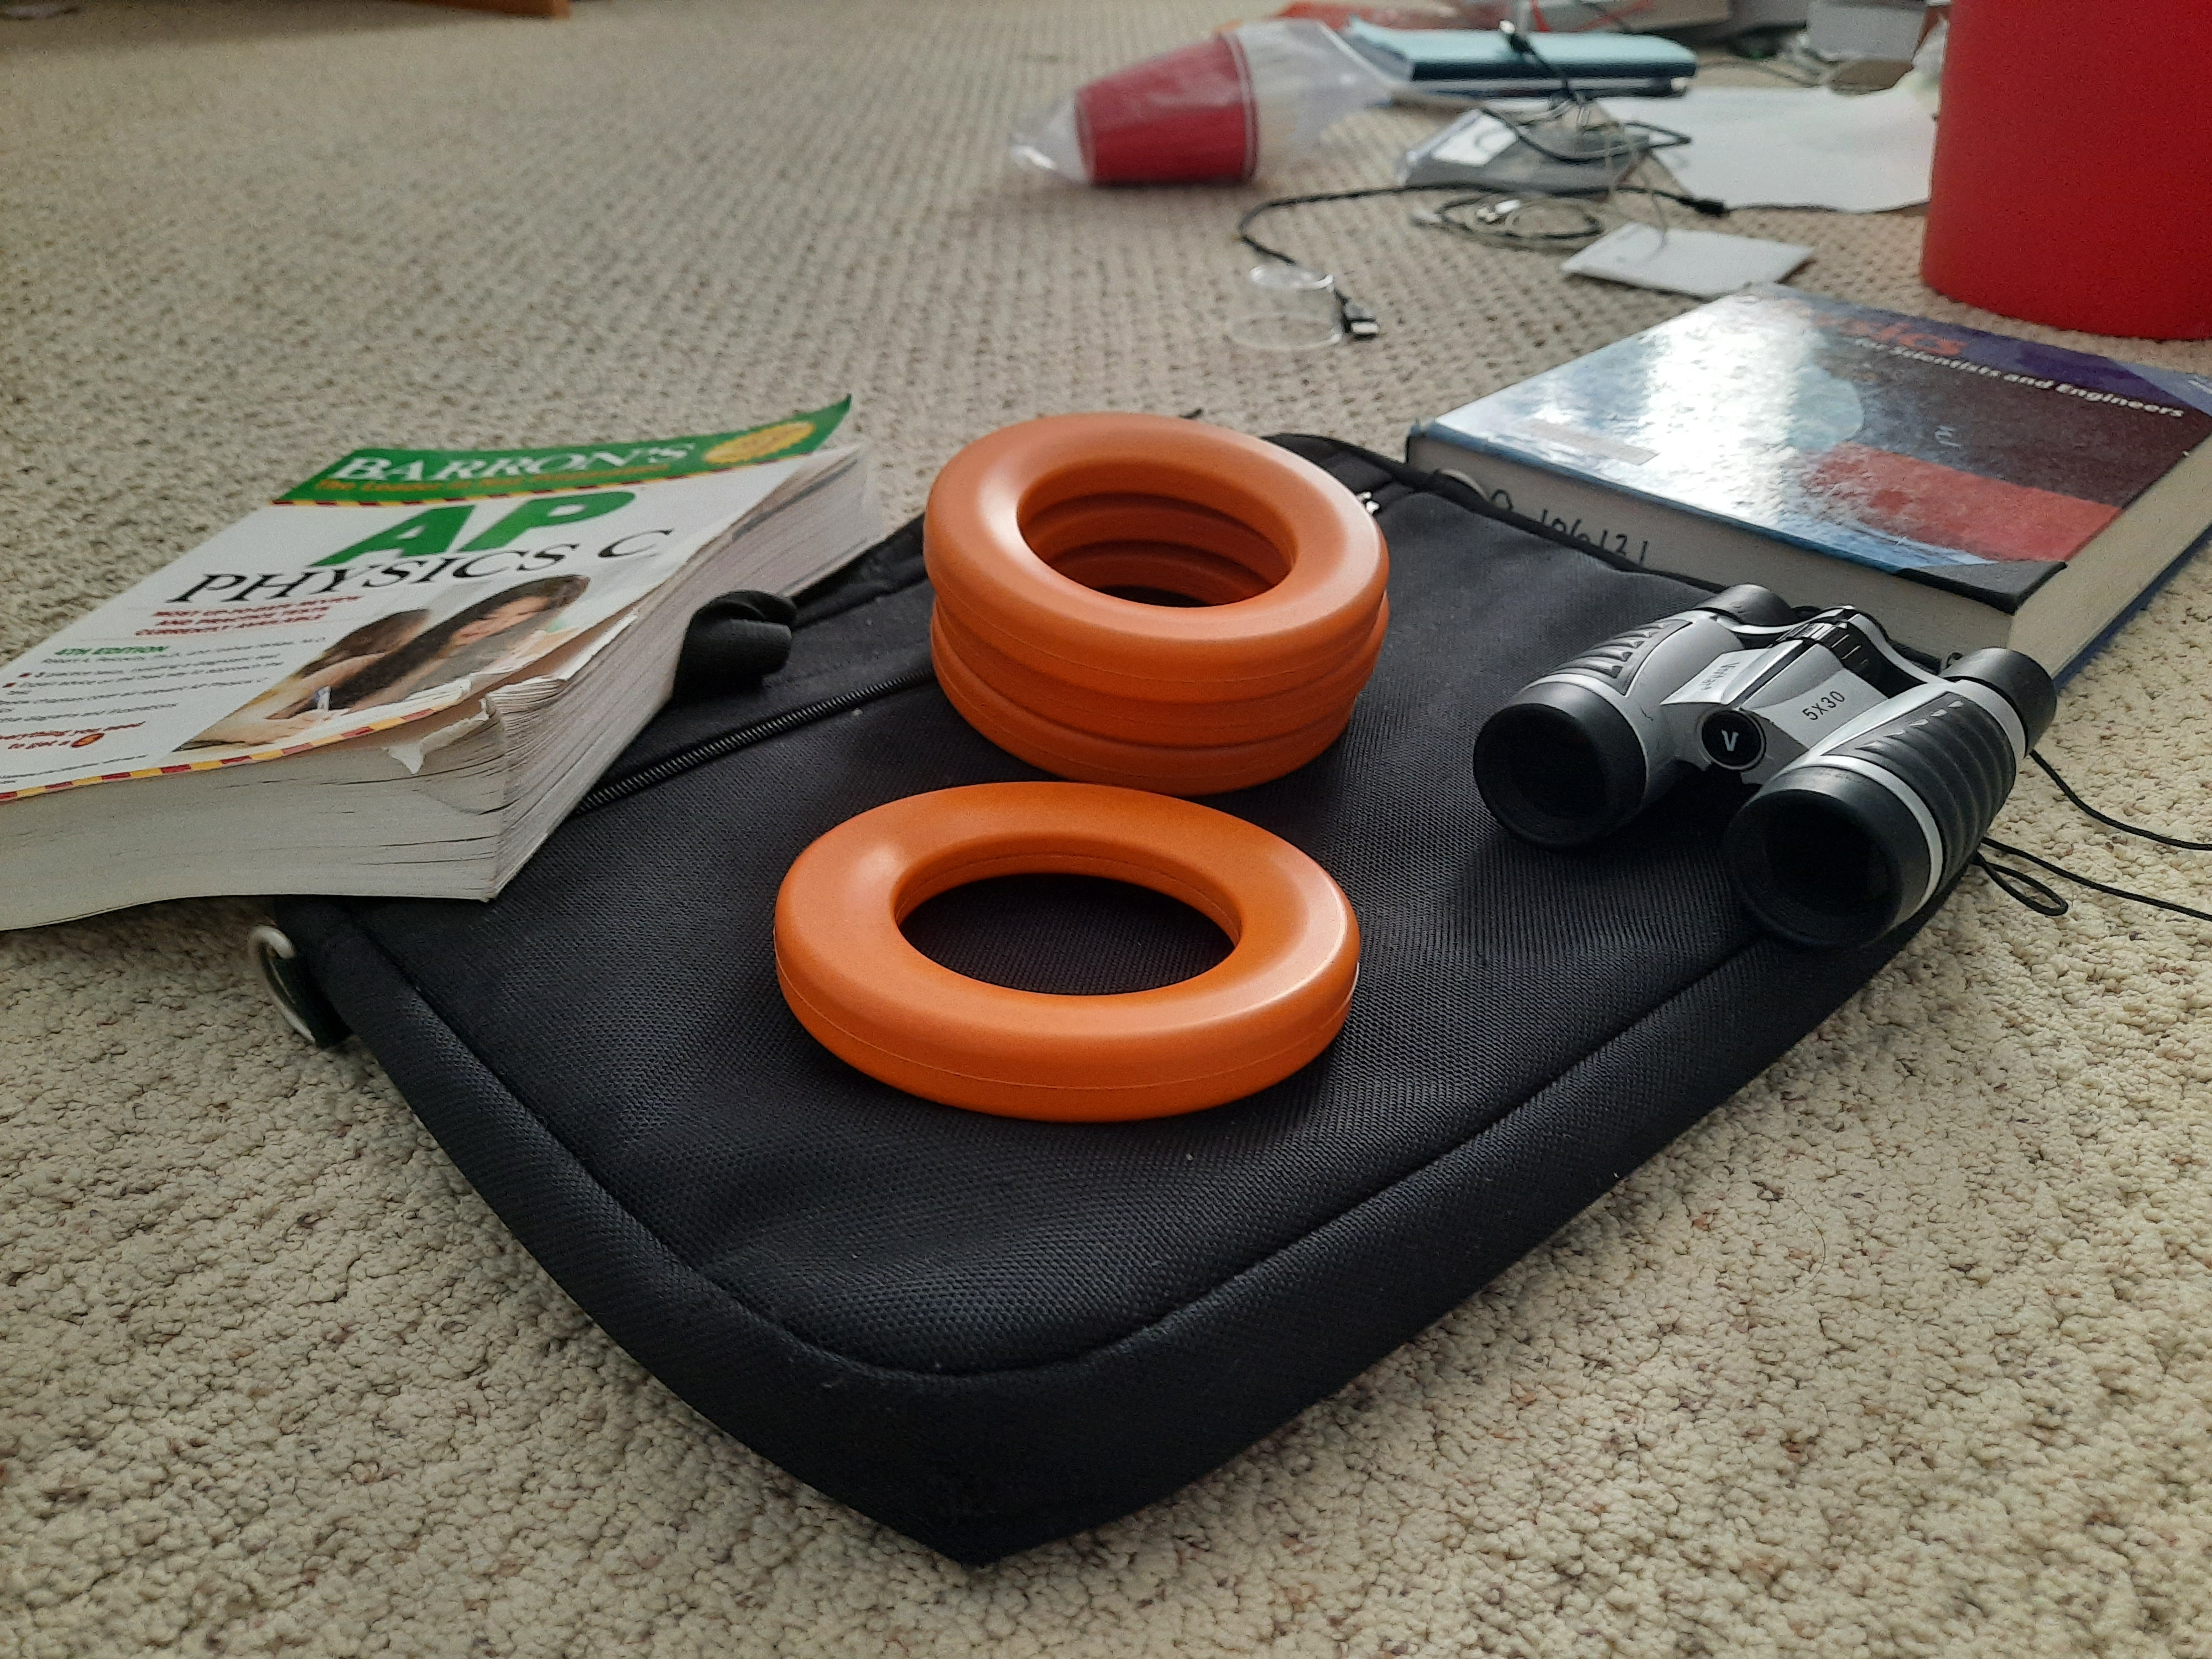FourStack: (932, 418, 1364, 770)
OneStack: (779, 784, 1352, 1103)
